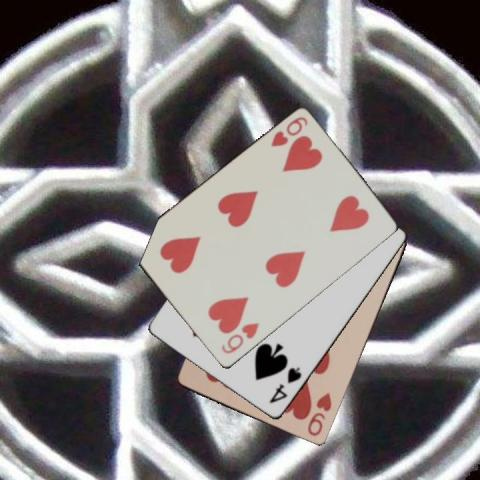4s: (266, 364, 303, 405)
6h: (218, 320, 261, 356), (268, 114, 310, 149)
9h: (305, 390, 333, 438)
